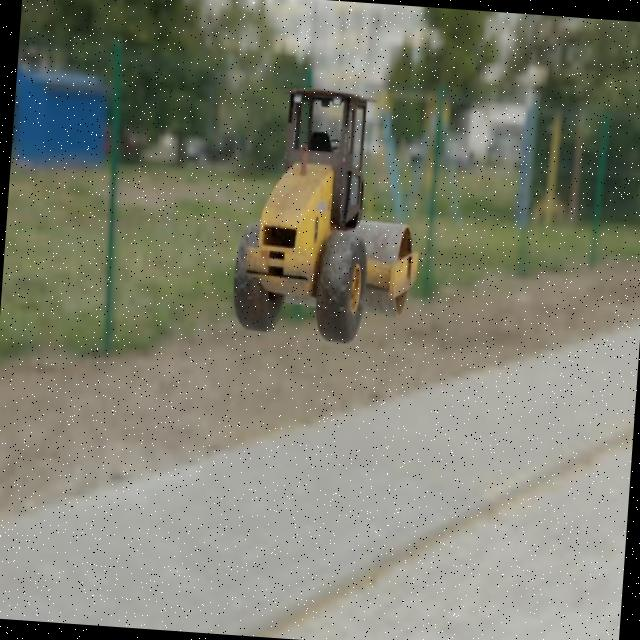Roller: (228, 82, 428, 348)
